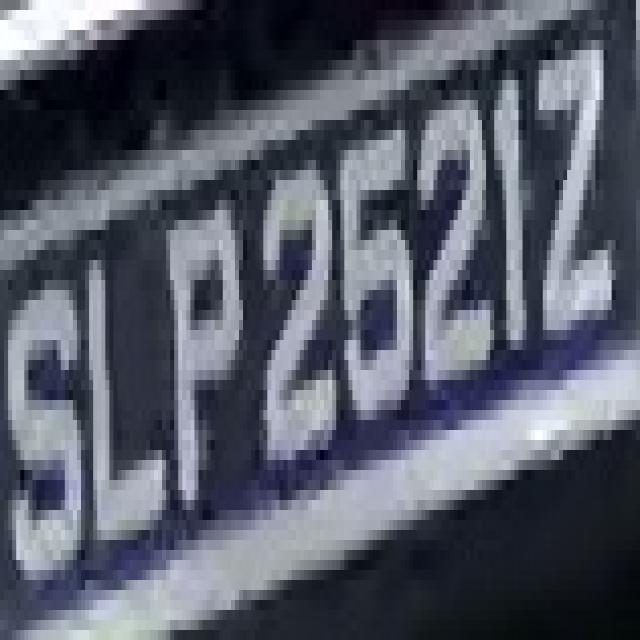1: (486, 80, 531, 400)
2: (405, 80, 498, 400), (255, 140, 340, 490)
5: (320, 120, 421, 430)
L: (89, 220, 174, 560)
P: (158, 180, 247, 510)
S: (16, 240, 85, 590)
Z: (526, 50, 628, 360)
